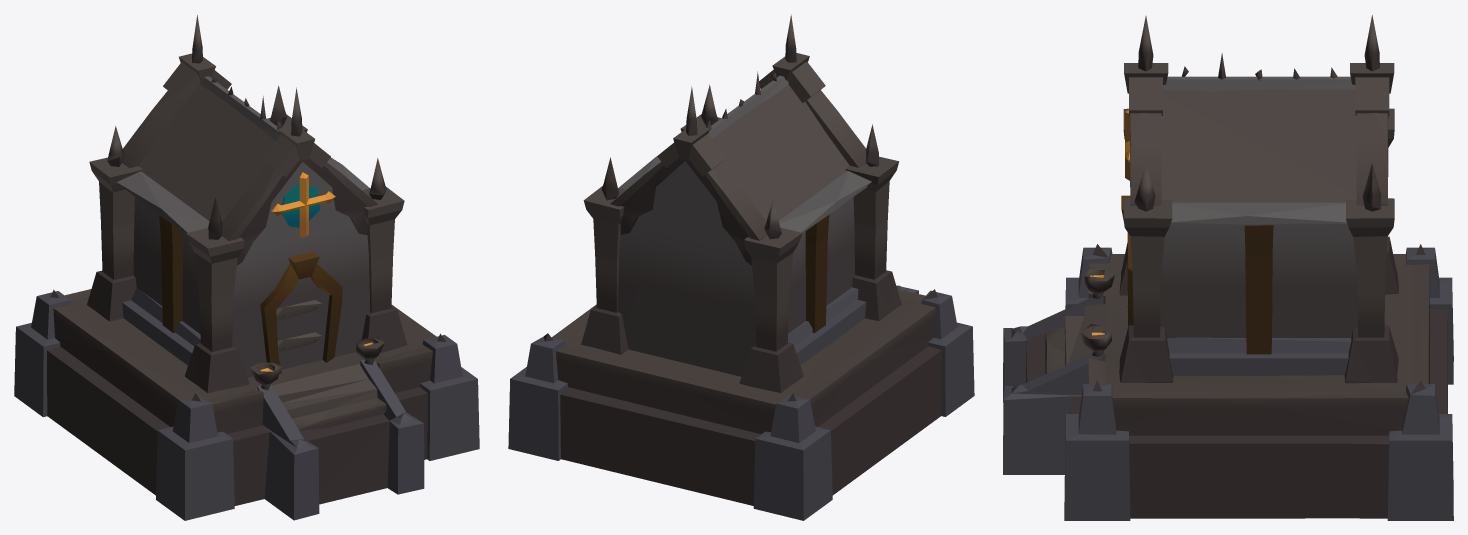
The model's file is Crypt_02_1.fbx.
3 views of the same model, side by side, from view 1: azimuth 30°, elevation 25°; view 2: azimuth 150°, elevation 25°; view 3: azimuth 270°, elevation 25° (orthographic). The views are drawn at different scales.
Parts seen in each view (by area): view 1: Crypt_02_1; view 2: Crypt_02_1; view 3: Crypt_02_1.
Part boxes in pixels (<box>): Crypt_02_1: <box>14,15,479,520</box>; Crypt_02_1: <box>508,14,974,520</box>; Crypt_02_1: <box>1003,15,1453,520</box>.
Bounding box in the file's own units: 842 × 1015 × 976.
